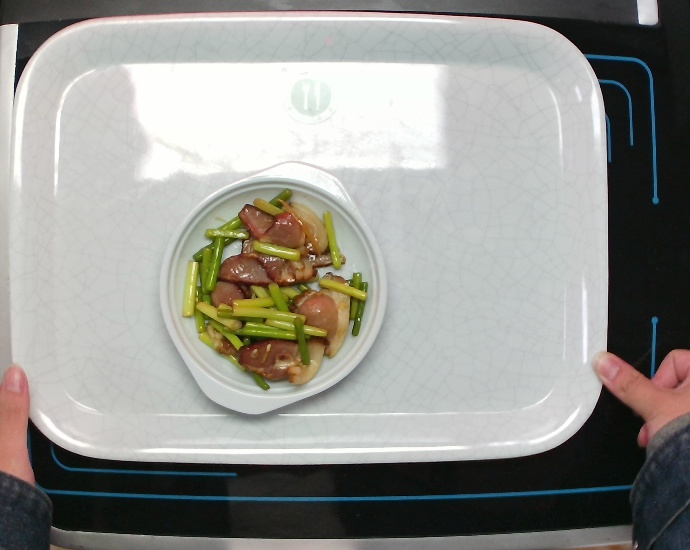JYsf-Shuang_Er_Pan: (151, 156, 397, 419)
